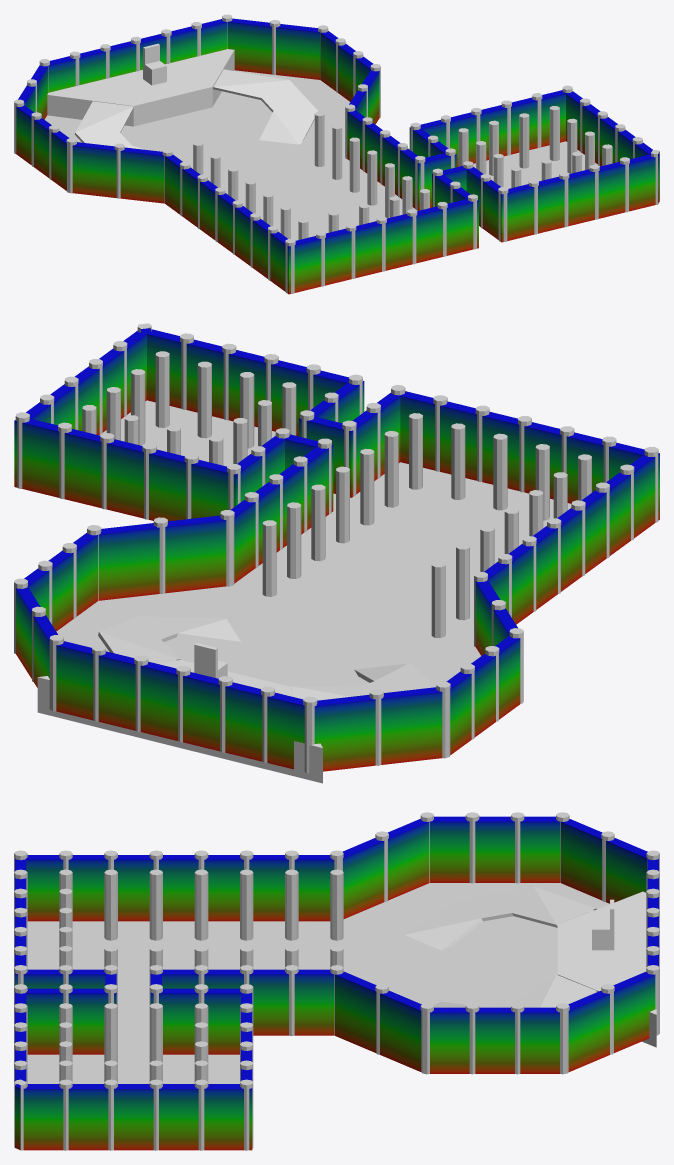
File: CathedralBoxEdit.fbx
3 renders of one model, top to bottom at view 1: azimuth 30°, elevation 25°; view 2: azimuth 150°, elevation 25°; view 3: azimuth 270°, elevation 25°, orthographic. The views are drawn at different scales.
Visible parts, largest first — view 1: wall_base, pillars, stairs, throne; view 2: wall_base, pillars, stairs, throne; view 3: wall_base, pillars, stairs, throne.
Boxes of the visible parts, x1,y1,x2,y2 form: wall_base: (16,18,659,294); pillars: (14,14,659,293); stairs: (47,49,318,149); throne: (143,43,166,85); wall_base: (14,328,659,771); pillars: (14,323,658,773); stairs: (37,616,434,783); throne: (194,643,227,678); wall_base: (15,816,658,1150); pillars: (14,812,659,1150); stairs: (404,886,656,1047); throne: (592,899,614,950).
Bounding box in the file's own units: 14.3 × 1.9 × 14.3.
